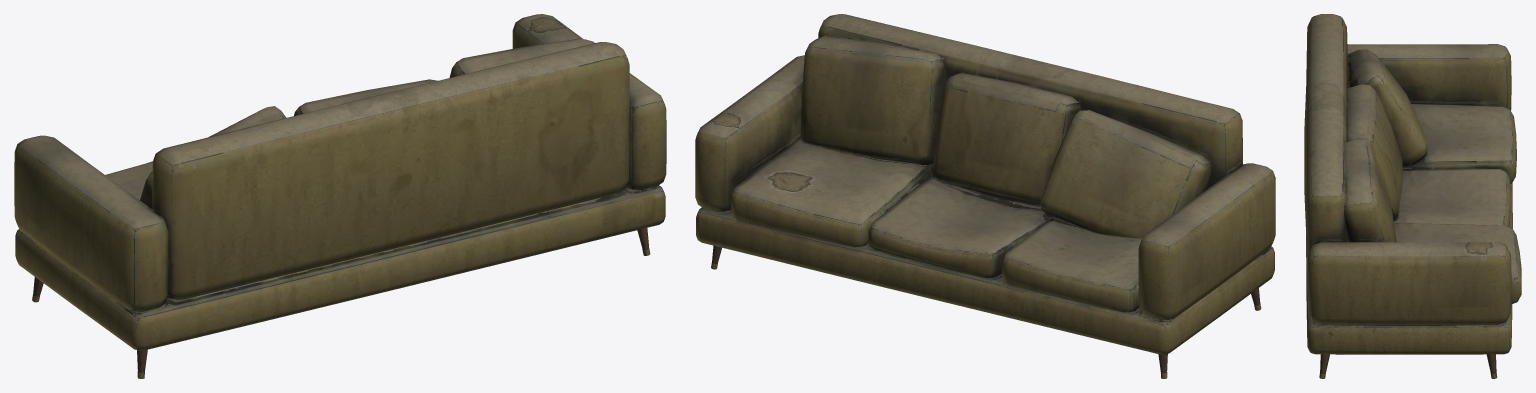
File: furniture_couch.glb
The picture shows the model from 3 angles, left to right: view 1: azimuth 30°, elevation 25°; view 2: azimuth 150°, elevation 25°; view 3: azimuth 270°, elevation 25°; orthographic projection. The views are drawn at different scales.
Parts seen in each view (by area): view 1: furniture_couch; view 2: furniture_couch; view 3: furniture_couch.
Part boxes in pixels (box(x1,y1,x2,y2)): furniture_couch: box(14, 14, 666, 378); furniture_couch: box(695, 14, 1275, 378); furniture_couch: box(1304, 14, 1521, 378).
Size of the model in its own units: 2.21 by 0.8467 by 0.9372.
Materials: 1 (1 with a texture image).
